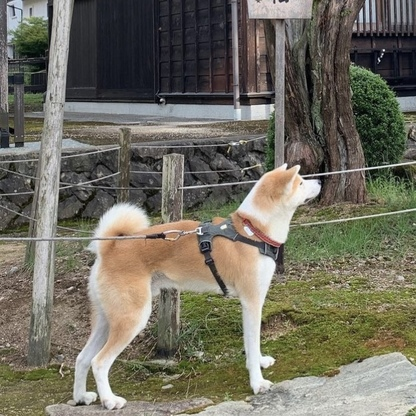akita: (66, 160, 328, 412)
